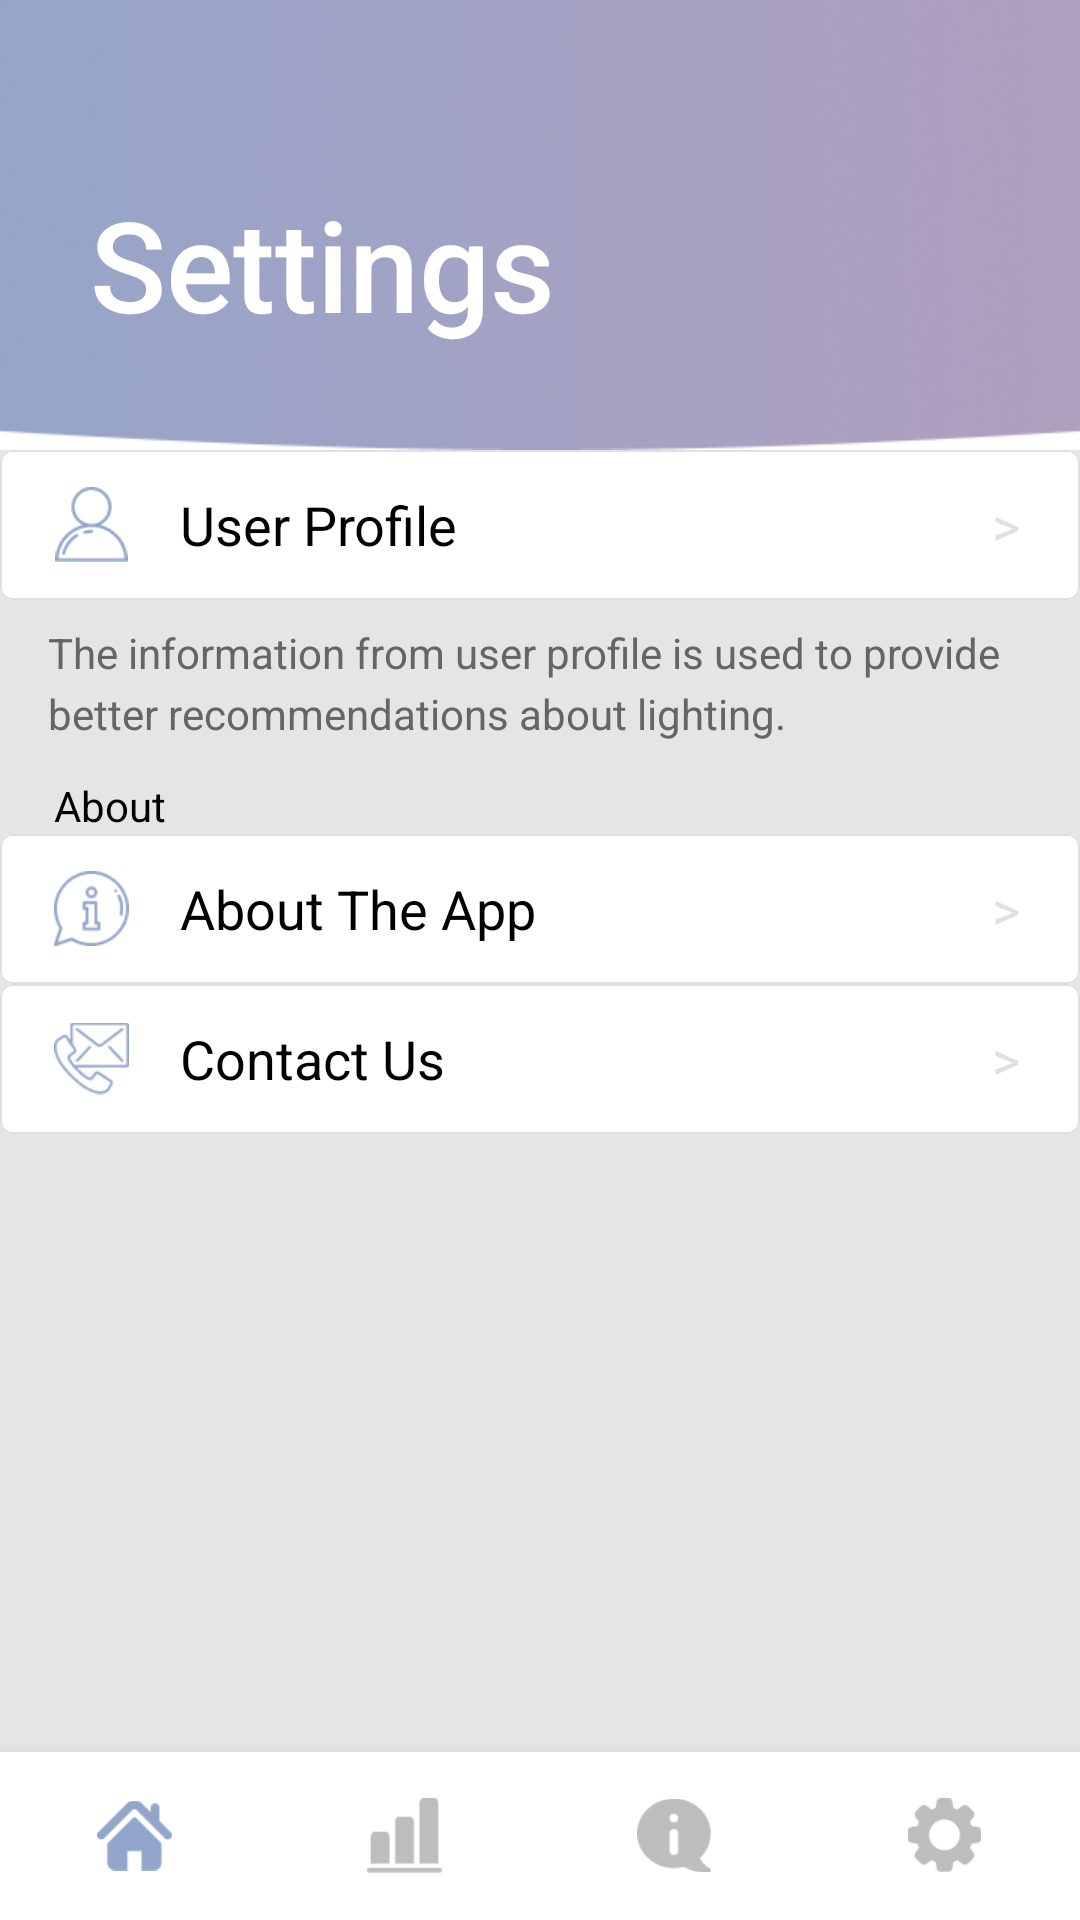

Icons on this 1080×1920 Android screen, each with the point to tap as [x,y]:
setting contact: [91,1059]
setting profile: [91,524]
